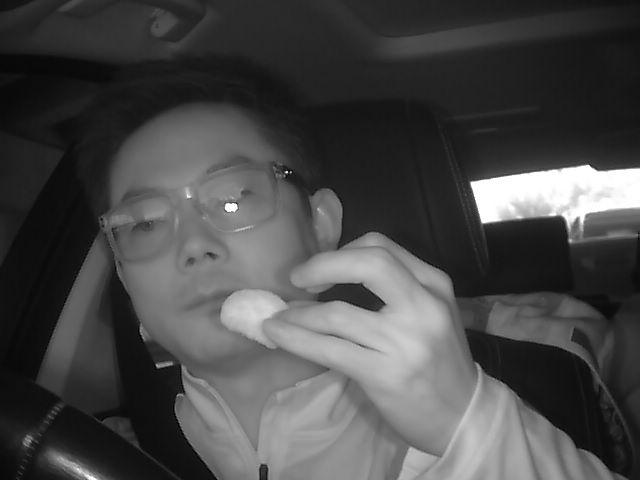hand: (278, 228, 472, 452)
